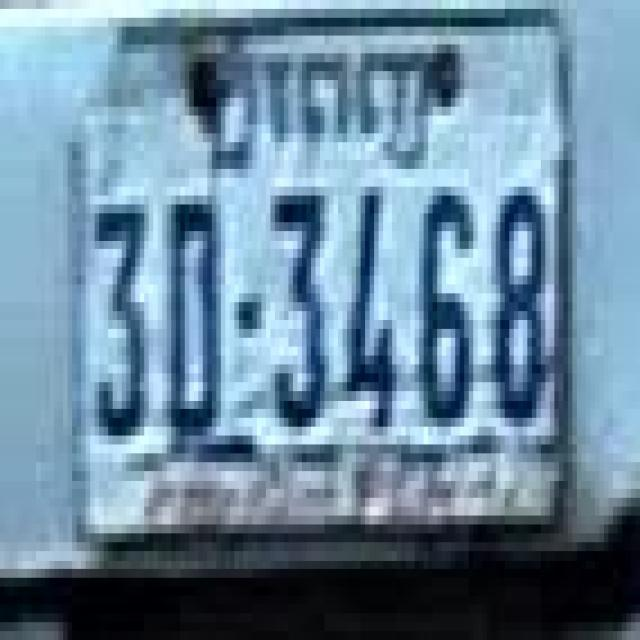Phnom_Penh: (216, 45, 442, 182)
